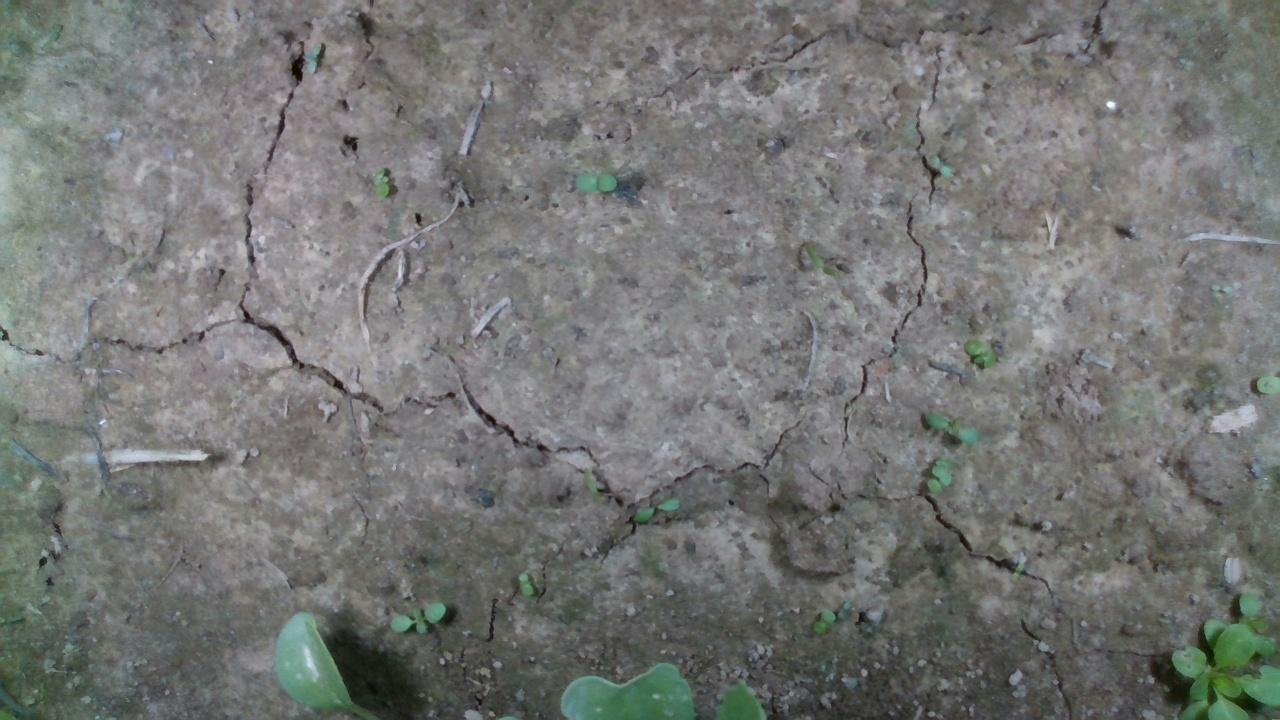weed: (387, 600, 446, 636), (630, 495, 682, 524), (573, 170, 618, 193), (299, 38, 322, 76), (368, 165, 390, 198), (810, 607, 834, 634), (515, 568, 534, 598)
